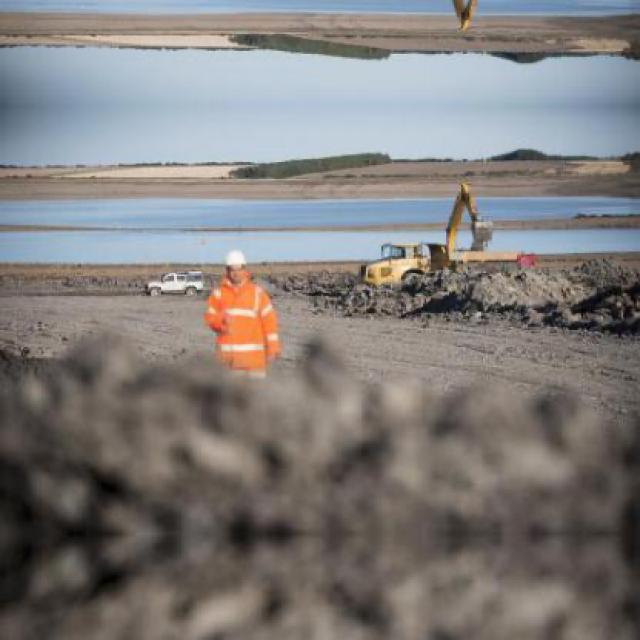Reflective-Jacket: (203, 278, 282, 381)
Safety-Helmet: (217, 242, 254, 276)
